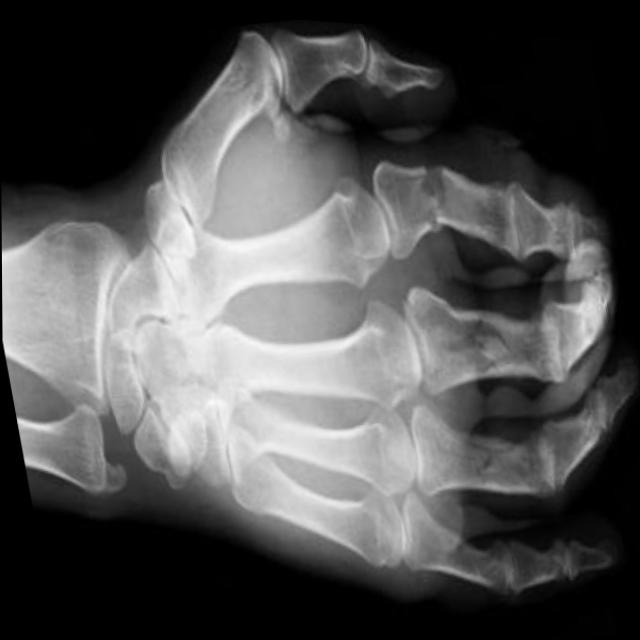fracture: (393, 130, 470, 241), (450, 282, 519, 383), (450, 404, 518, 489)
